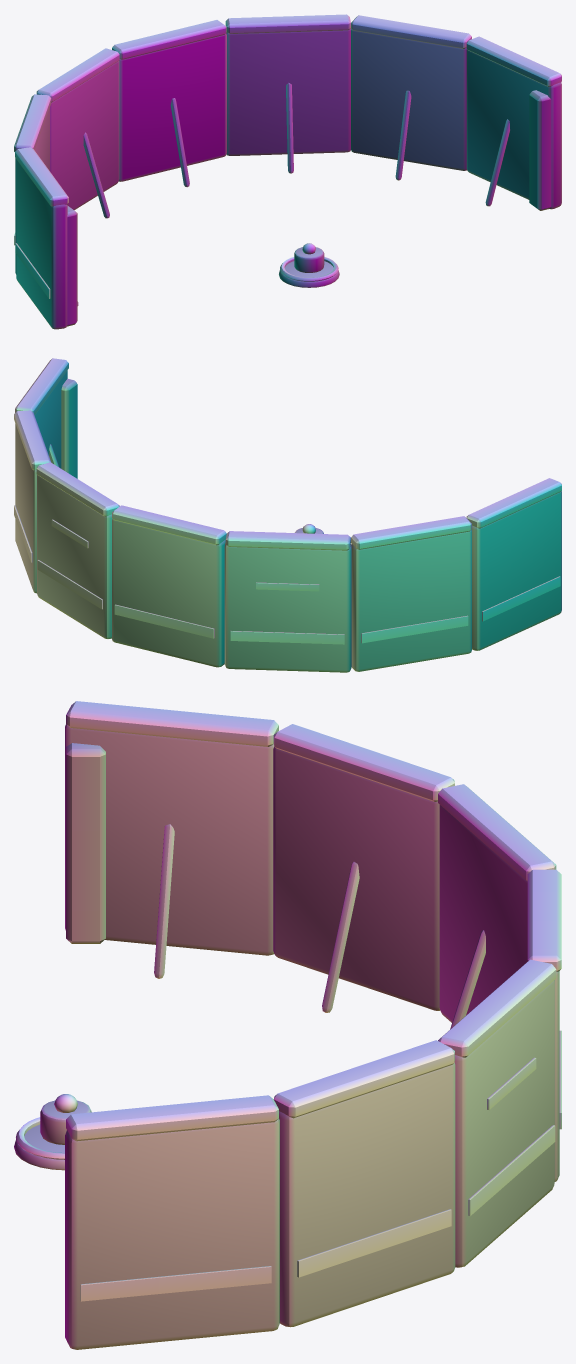
Rendered from gad_cover.glb.
The picture shows the model from 3 angles, top to bottom: view 1: azimuth 30°, elevation 25°; view 2: azimuth 150°, elevation 25°; view 3: azimuth 270°, elevation 25°; orthographic projection. The views are drawn at different scales.
Parts seen in each view (by area): view 1: cover; view 2: cover; view 3: cover.
Boxes of the visible parts, x1,y1,x2,y2 form: cover: (14, 14, 561, 329); cover: (14, 358, 561, 672); cover: (14, 701, 561, 1349).
Size of the model in its own units: 1.01 by 0.2637 by 0.5498.
